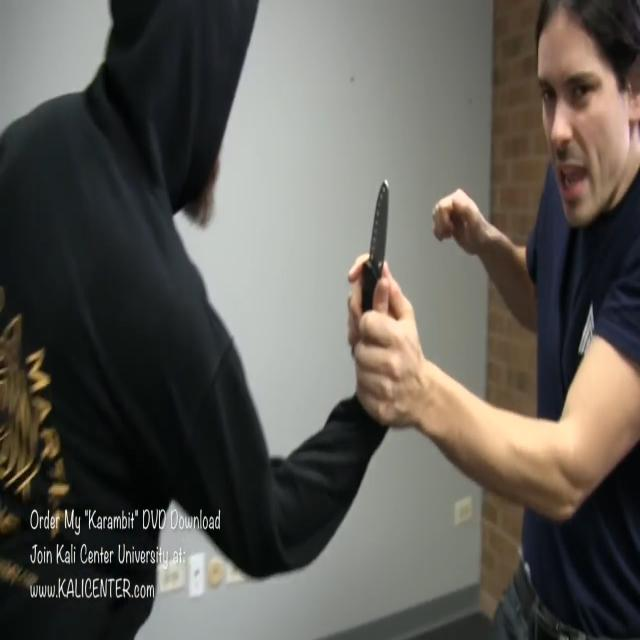knife: (364, 172, 395, 308)
